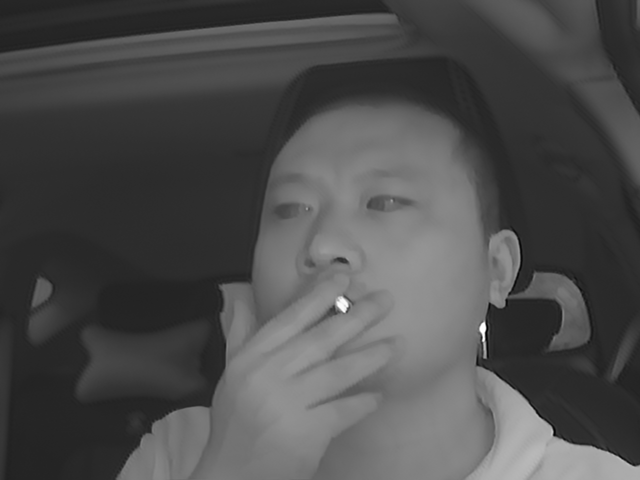hand: (239, 275, 403, 445)
